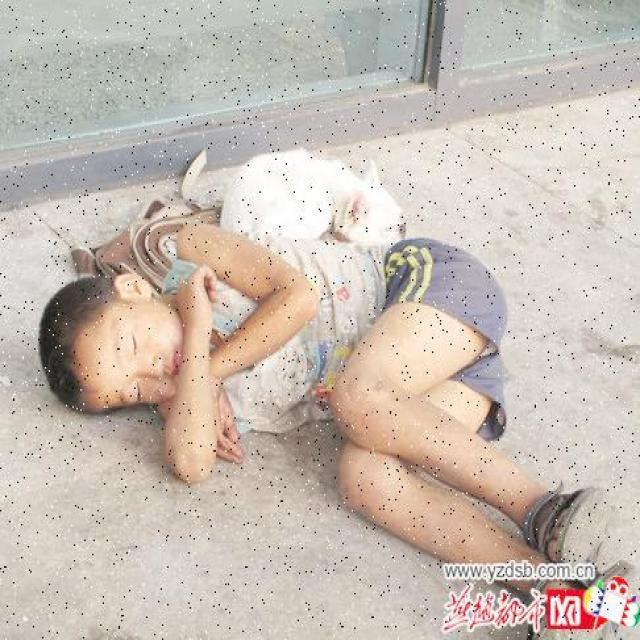fall: (34, 220, 599, 636)
